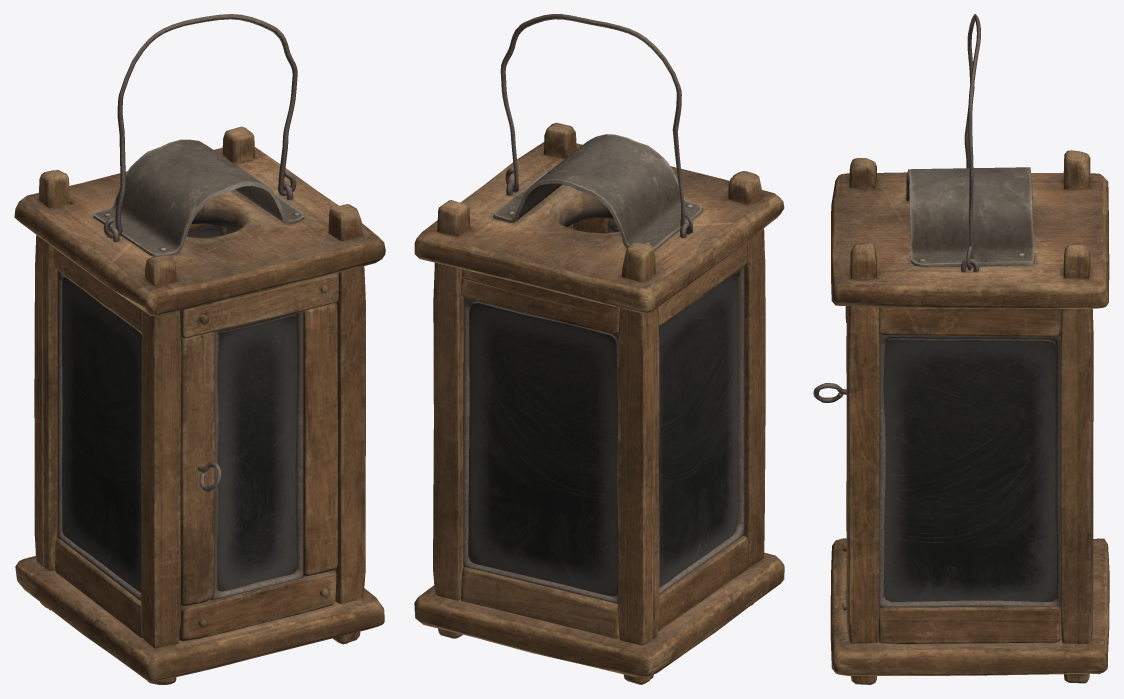
The model's file is wooden_lantern_01.glb.
3 views of the same model, side by side, from view 1: azimuth 30°, elevation 25°; view 2: azimuth 150°, elevation 25°; view 3: azimuth 270°, elevation 25° (orthographic).
Parts seen in each view (by area): view 1: wooden_lantern_01, wooden_lantern_01_door, wooden_lantern_01_handle; view 2: wooden_lantern_01, wooden_lantern_01_handle, wooden_lantern_01_door; view 3: wooden_lantern_01, wooden_lantern_01_handle, wooden_lantern_01_door.
Part boxes in pixels (box(x1,y1,x2,y2)): wooden_lantern_01: box(14, 126, 385, 684); wooden_lantern_01_door: box(179, 272, 339, 641); wooden_lantern_01_handle: box(103, 14, 297, 238); wooden_lantern_01: box(414, 122, 784, 684); wooden_lantern_01_handle: box(500, 14, 692, 234); wooden_lantern_01_door: box(573, 217, 618, 233); wooden_lantern_01: box(830, 150, 1109, 684); wooden_lantern_01_handle: box(964, 14, 980, 270); wooden_lantern_01_door: box(813, 306, 847, 610).
Size of the model in its own units: 1.88 by 4.52 by 2.
2 materials, 2 textured.
